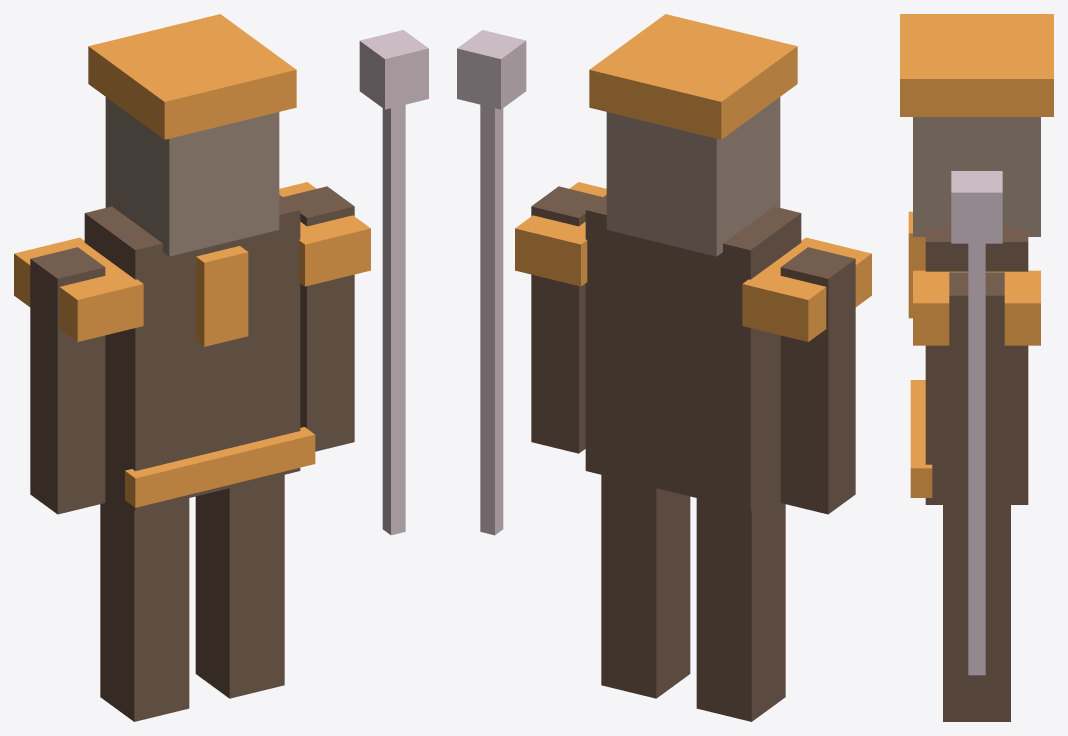
Rendered from 01_talia_rootborne_sentinel_from_silent.glb.
3 views of the same model, side by side, from view 1: azimuth 30°, elevation 25°; view 2: azimuth 150°, elevation 25°; view 3: azimuth 270°, elevation 25° (orthographic).
Visible parts, largest first — view 1: Talia Rootborne, Sentinel from Silent; view 2: Talia Rootborne, Sentinel from Silent; view 3: Talia Rootborne, Sentinel from Silent.
Boxes of the visible parts, x1,y1,x2,y2 form: Talia Rootborne, Sentinel from Silent: [14, 14, 428, 721]; Talia Rootborne, Sentinel from Silent: [457, 14, 871, 721]; Talia Rootborne, Sentinel from Silent: [900, 14, 1053, 721].
Size of the model in its own units: 1.01 by 1.64 by 0.3584.
